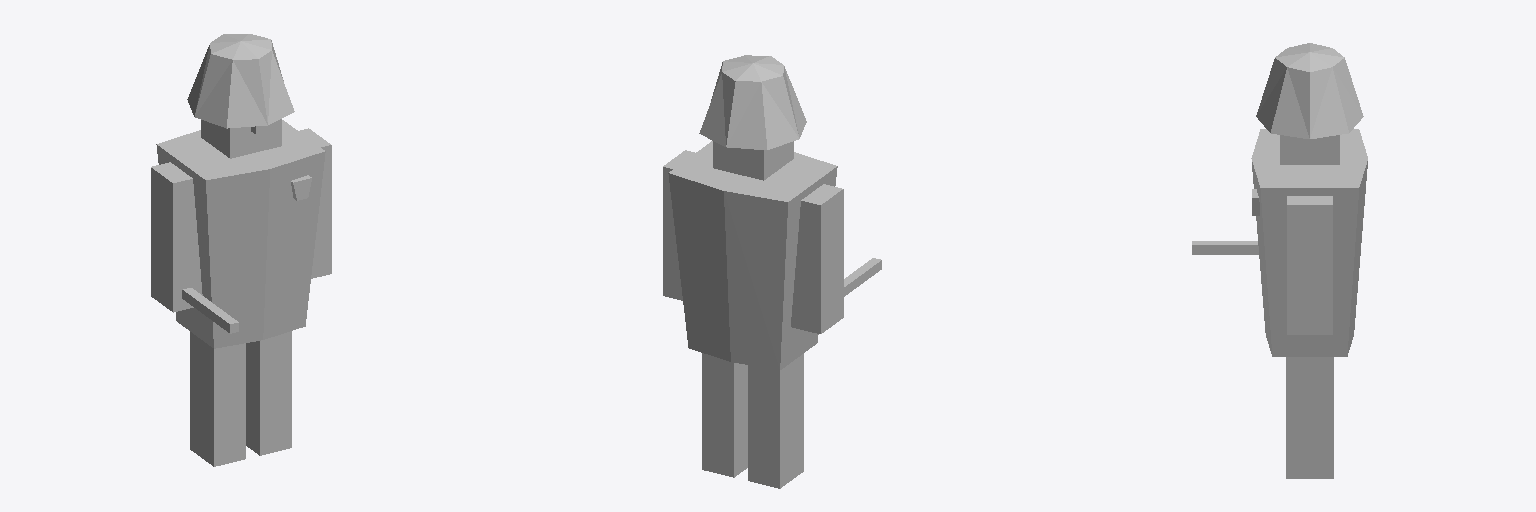
File: policeMan.obj
3 renders of one model, left to right at view 1: azimuth 30°, elevation 25°; view 2: azimuth 150°, elevation 25°; view 3: azimuth 270°, elevation 25°, orthographic.
Visible parts, largest first — view 1: polySurface4; view 2: polySurface4; view 3: polySurface4.
Boxes of the visible parts, x1=… form: polySurface4: x1=151, y1=34, x2=331, y2=466; polySurface4: x1=663, y1=55, x2=881, y2=488; polySurface4: x1=1192, y1=43, x2=1367, y2=478.
Size of the model in its own units: 0.9902 by 2.44 by 0.9566.